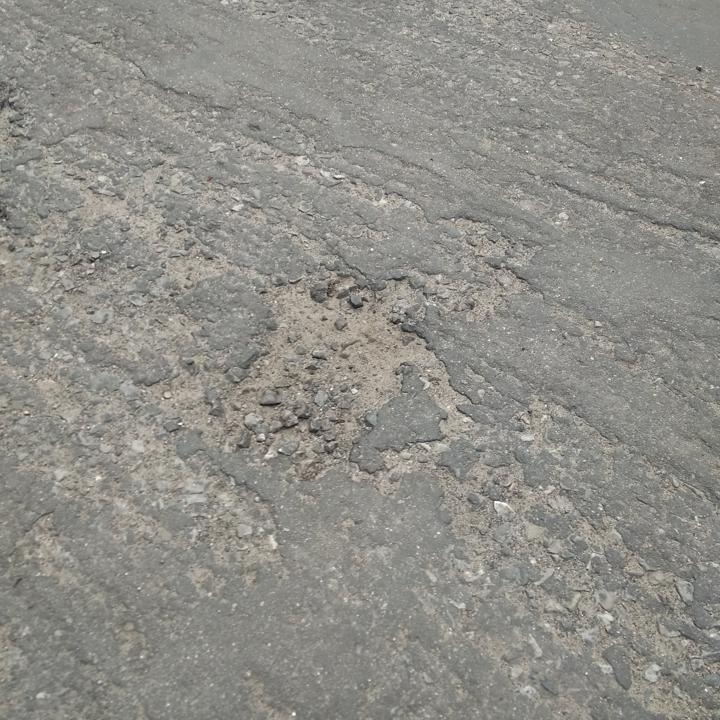pothole: (222, 262, 447, 467)
